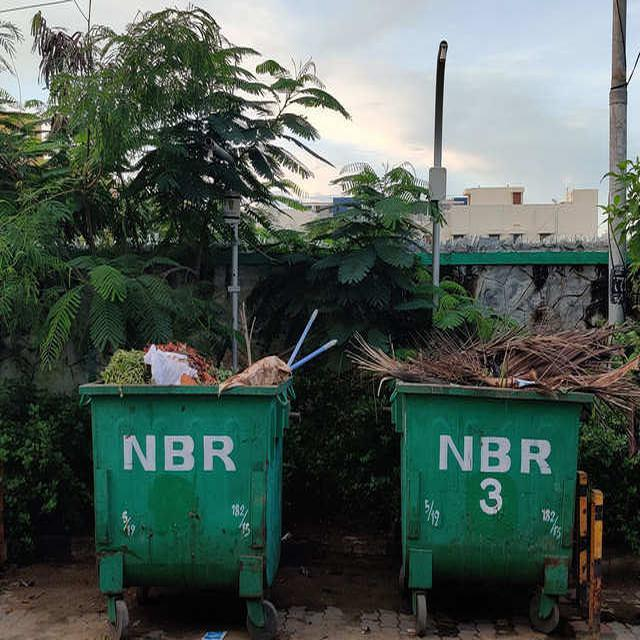garbage: (351, 318, 639, 418), (79, 332, 310, 398)
